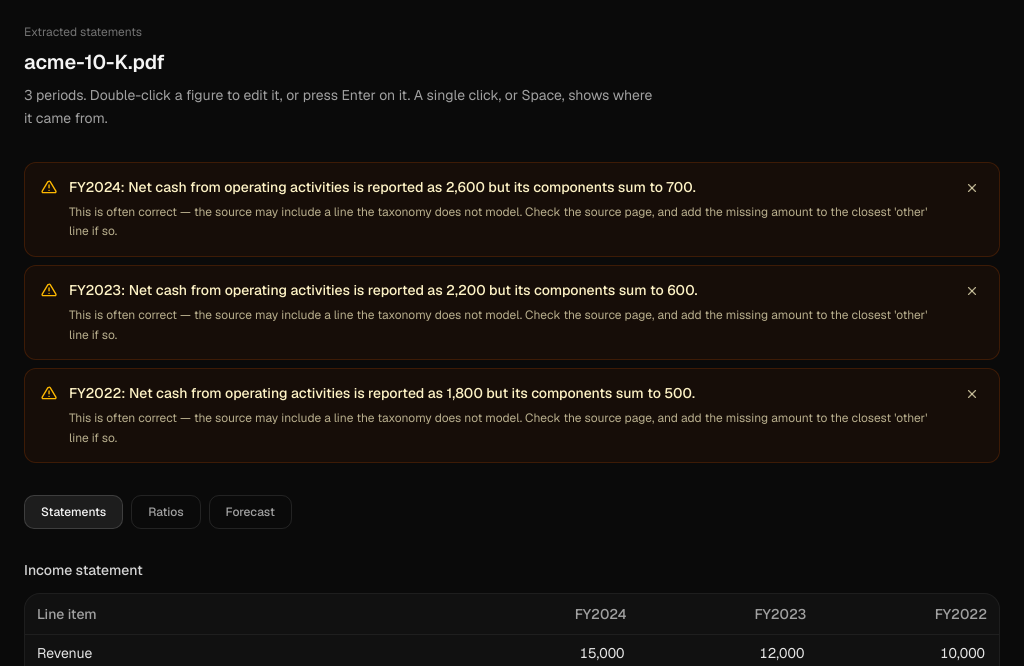
Test: the ratios view › shows the five families once opened
What coordinates should you click on to do the following:
click the tab "Ratios"
I would click on:
 (166, 512)
Its box is [131,495,201,529].
(page scrolled)
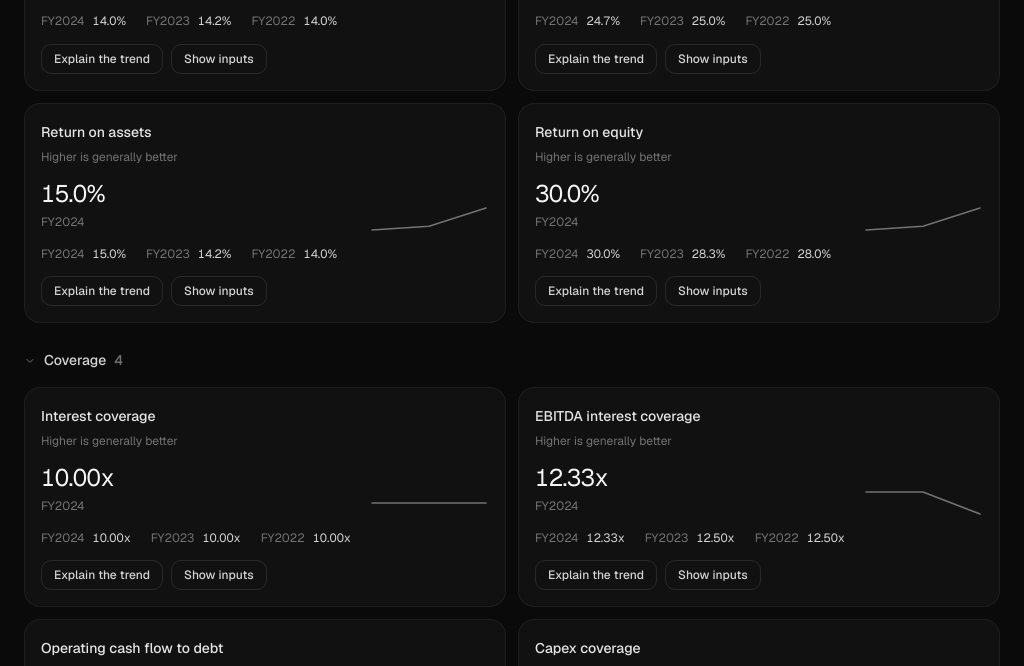
expect the button "Coverage 4" is shown: met, box [24,347,123,375]
